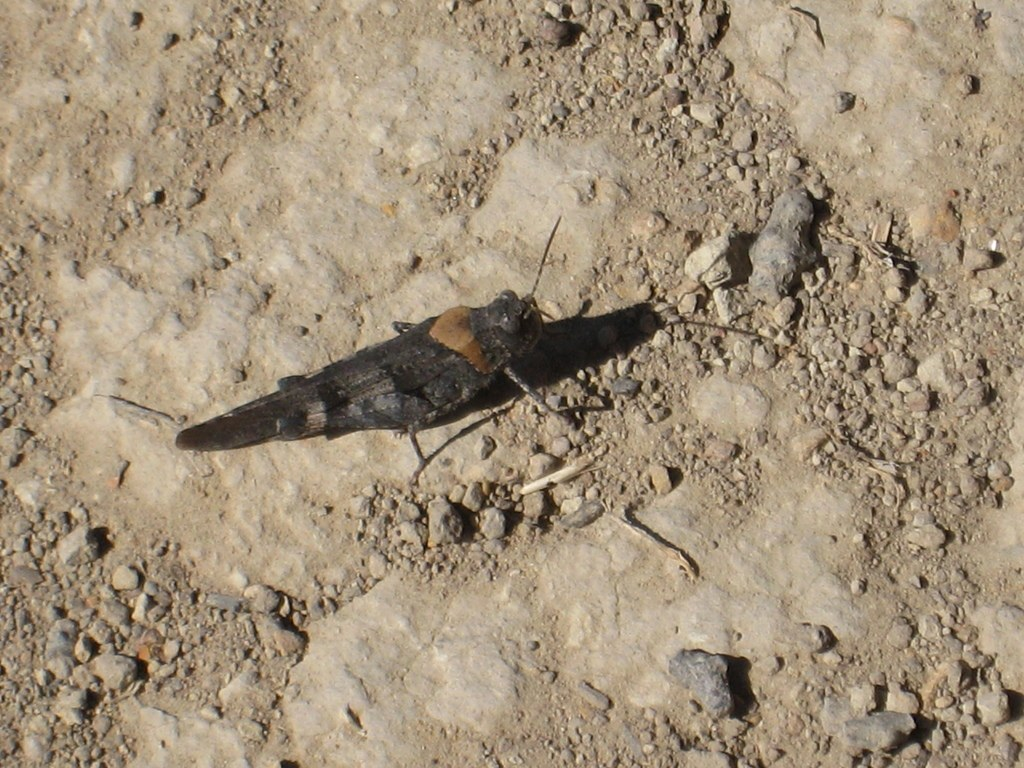insect: (175, 217, 614, 476)
